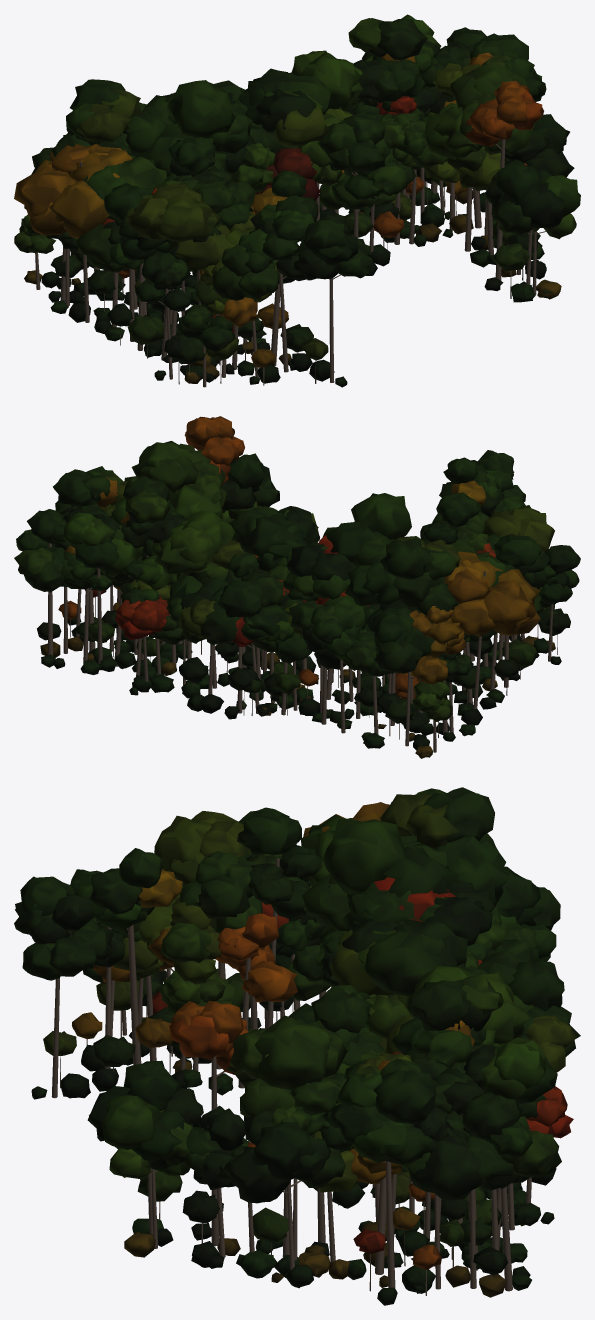
Rendered from woods_phone.fbx.
3 renders of one model, top to bottom at view 1: azimuth 30°, elevation 25°; view 2: azimuth 150°, elevation 25°; view 3: azimuth 270°, elevation 25°, orthographic. The views are drawn at different scales.
Parts seen in each view (by area): view 1: woods_tree_004, woods_tree_008, woods_tree_079, woods_tree_040, woods_tree_076, woods_tree_052, woods_tree_080, woods_tree_068, woods_tree_013, woods_tree_094, woods_tree_057, woods_tree_099 (+40 smaller); view 2: woods_tree_004, woods_tree_076, woods_tree_059, woods_tree_045, woods_tree_040, woods_tree_038, woods_tree_095, woods_tree_013, woods_tree_071, woods_tree_052, woods_tree_011, woods_tree_068 (+44 smaller); view 3: woods_tree_040, woods_tree_098, woods_tree_076, woods_tree_080, woods_tree_079, woods_tree_052, woods_tree_100, woods_tree_095, woods_tree_104, woods_tree_096, woods_tree_027, woods_tree_078 (+50 smaller).
Boxes of the visible parts, x1,y1,x2,y2 form: woods_tree_004: (14,143,132,322); woods_tree_008: (118,183,230,362); woods_tree_079: (484,161,580,302); woods_tree_040: (140,80,252,290); woods_tree_076: (421,64,531,267); woods_tree_052: (237,68,333,151); woods_tree_080: (293,213,372,387); woods_tree_068: (348,18,428,107); woods_tree_013: (51,79,142,300); woods_tree_094: (238,204,313,372); woods_tree_057: (317,111,391,275); woods_tree_099: (465,80,543,290); woods_tree_004: (444,551,540,725); woods_tree_076: (131,441,227,520); woods_tree_059: (138,511,235,680); woods_tree_045: (207,572,289,716); woods_tree_040: (323,493,424,694); woods_tree_038: (283,541,357,718); woods_tree_095: (14,509,69,668); woods_tree_013: (380,537,460,733); woods_tree_071: (63,512,138,670); woods_tree_052: (230,506,319,675); woods_tree_011: (374,610,450,746); woods_tree_068: (119,476,187,672); woods_tree_040: (302,818,458,931); woods_tree_098: (328,1058,436,1305); woods_tree_076: (226,1015,349,1256); woods_tree_080: (14,876,114,1099); woods_tree_079: (87,1060,203,1246); woods_tree_052: (330,918,467,996); woods_tree_100: (226,1110,345,1282); woods_tree_095: (462,1092,561,1291); woods_tree_104: (75,848,182,1064); woods_tree_096: (401,1111,529,1297); woods_tree_027: (237,810,321,1028); woods_tree_078: (182,1105,249,1268).
Bounding box in the file's own units: 180 × 71.55 × 132.
